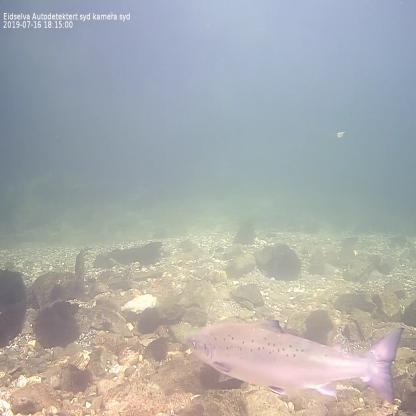salmon: (179, 312, 406, 408)
